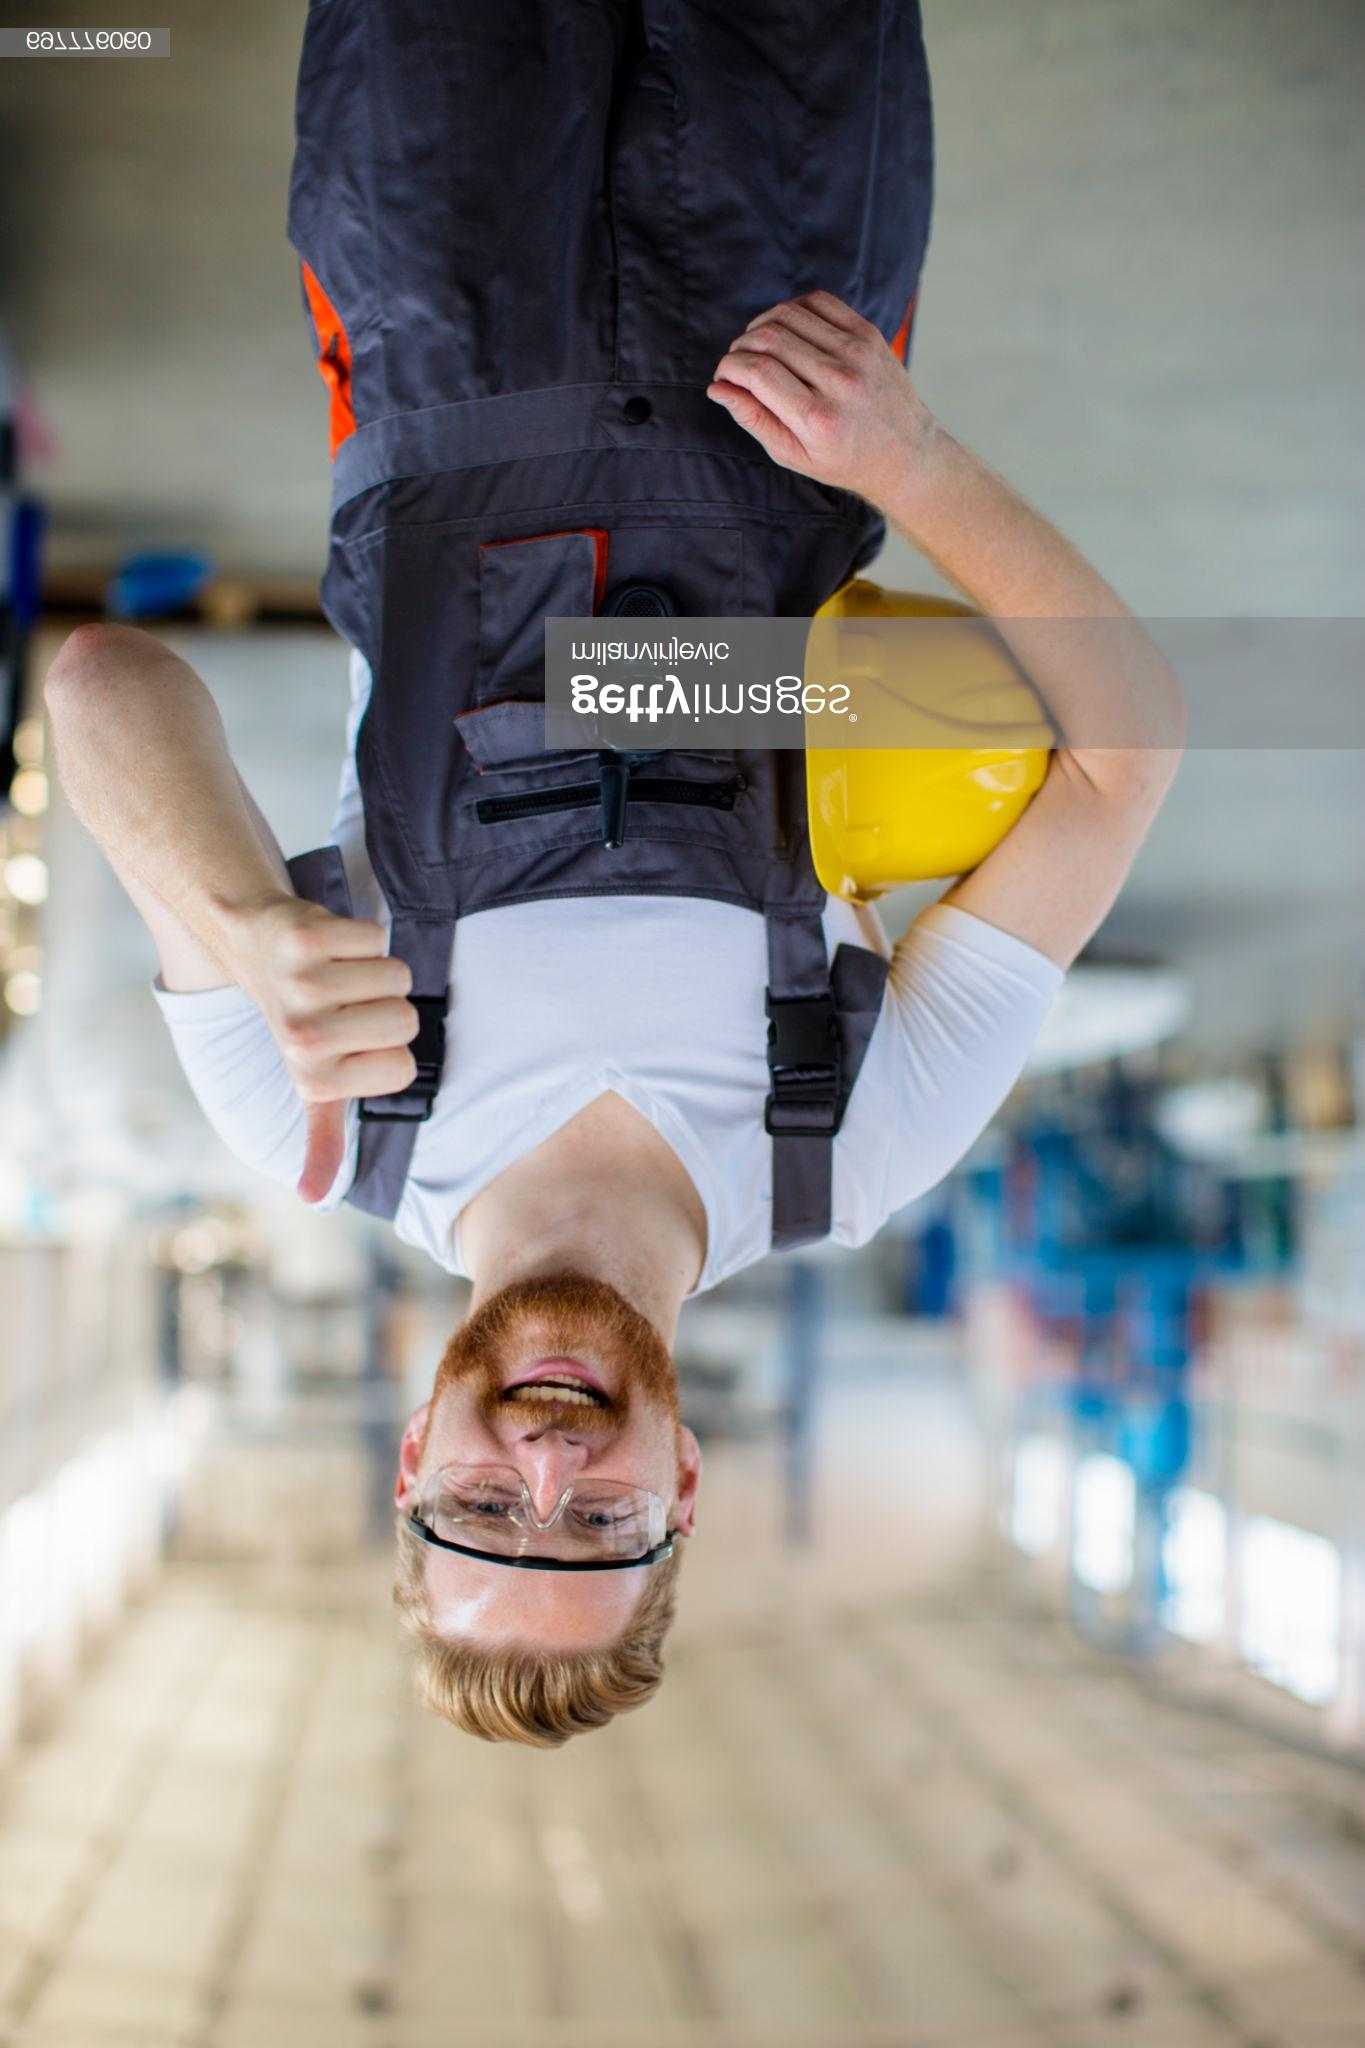thumbsdown: (280, 915, 420, 1204)
